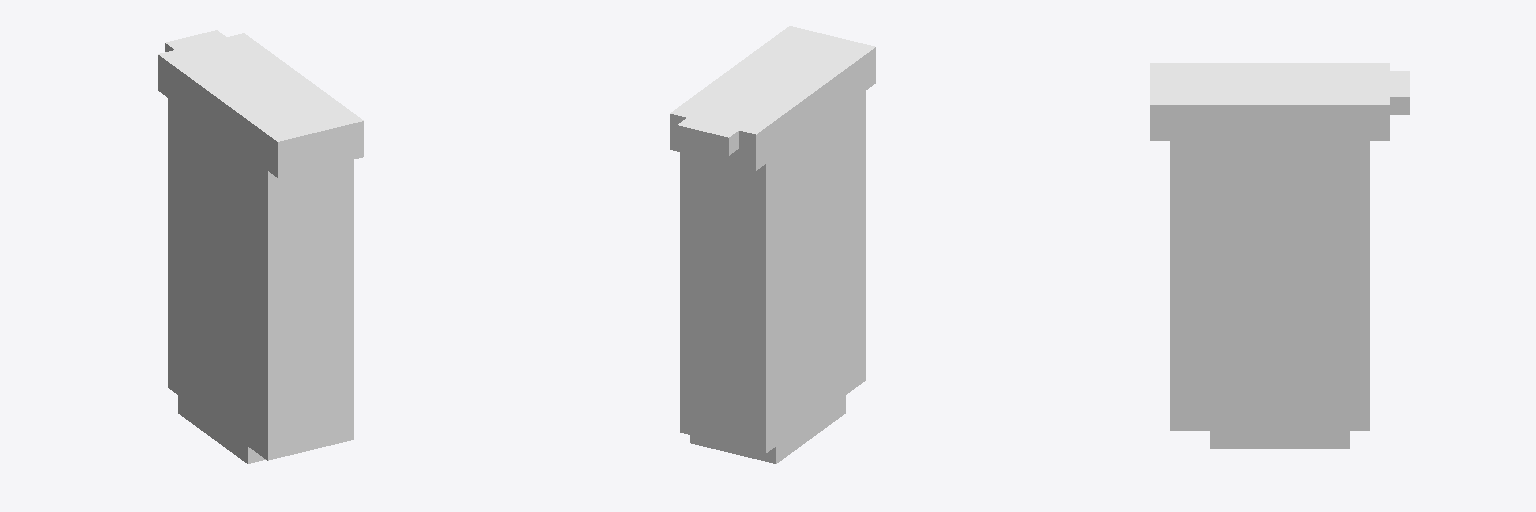
Rendered from Character-11-LlegDown.obj.
The picture shows the model from 3 angles: view 1: azimuth 30°, elevation 25°; view 2: azimuth 150°, elevation 25°; view 3: azimuth 270°, elevation 25°; orthographic projection.
Visible parts, largest first — view 1: LlegDown; view 2: LlegDown; view 3: LlegDown.
Part boxes in pixels (left/top/right/bottom): LlegDown: left=158, top=30, right=363, bottom=463; LlegDown: left=670, top=26, right=875, bottom=463; LlegDown: left=1150, top=63, right=1409, bottom=448.
Size of the model in its own units: 0.5 by 1.9 by 1.3.